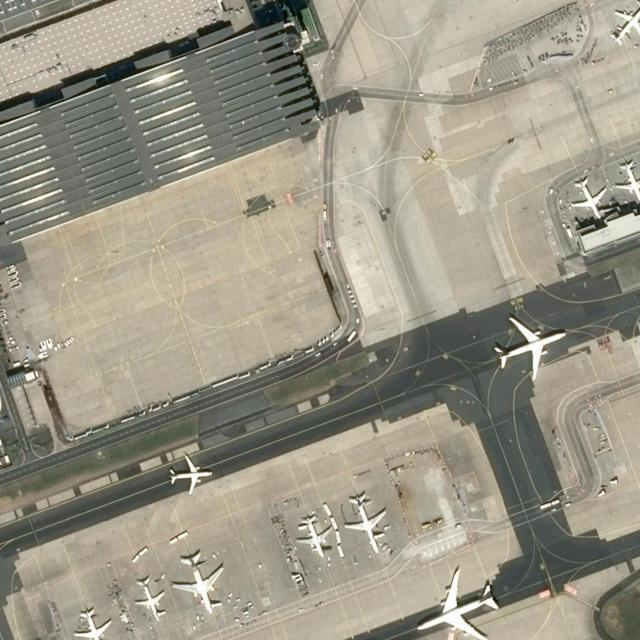Aircraft: (414, 566, 500, 639), (413, 568, 499, 639), (490, 313, 567, 379), (491, 313, 566, 379), (171, 553, 225, 613), (172, 553, 226, 613), (343, 494, 388, 554), (344, 493, 388, 553), (164, 454, 212, 496), (293, 514, 335, 562), (166, 452, 212, 495), (569, 179, 611, 221), (568, 176, 608, 220), (294, 514, 333, 558), (131, 576, 166, 622), (606, 0, 640, 45), (608, 0, 640, 45), (132, 579, 166, 619), (72, 606, 112, 639), (71, 608, 114, 638), (612, 158, 640, 204), (615, 160, 639, 202)
